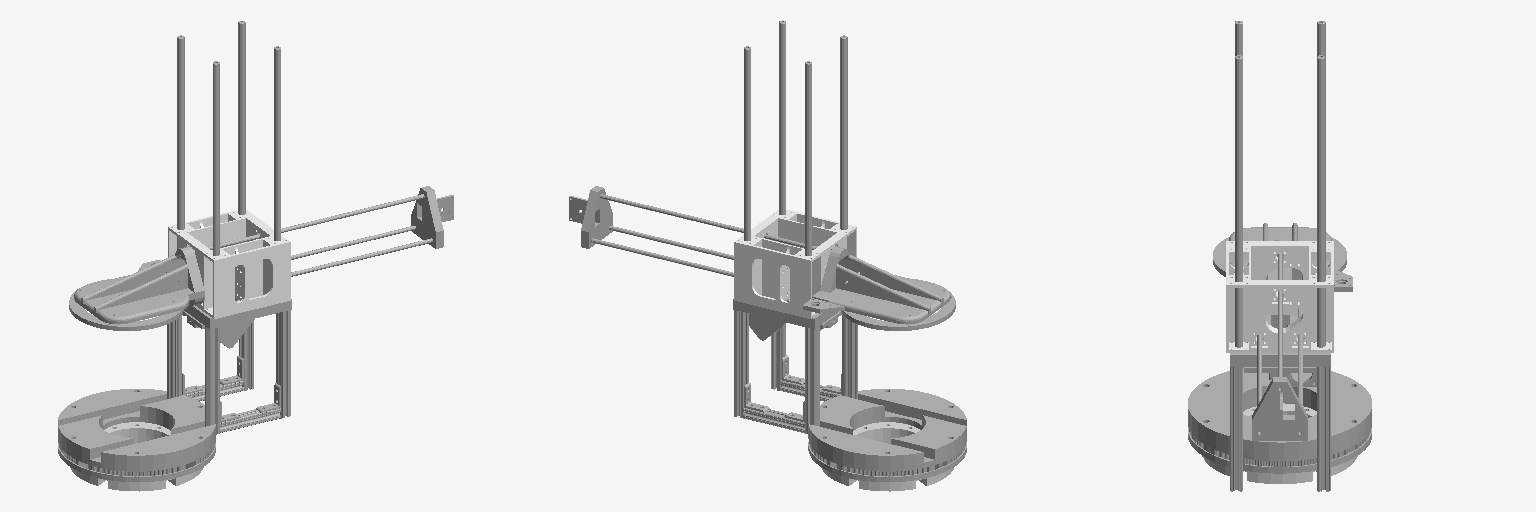
URDF robot description (Robotic Camera Arm Prototype Assem 1.SLDASM):
<?xml version="1.0" encoding="utf-8"?>
<!-- This URDF was automatically created by SolidWorks to URDF Exporter! Originally created by Stephen Brawner (brawner@gmail.com) 
     Commit Version: 1.6.0-4-g7f85cfe  Build Version: 1.6.7995.38578
     For more information, please see http://wiki.ros.org/sw_urdf_exporter -->
<robot
  name="Robotic Camera Arm Prototype Assem 1.SLDASM">
  <link
    name="base_link">
    <inertial>
      <origin
        xyz="-2.27782660584949E-10 3.67005299113982E-09 -0.0210125272705798"
        rpy="0 0 0" />
      <mass
        value="1.81215211898536" />
      <inertia
        ixx="0.01313648481332"
        ixy="7.31803112692465E-12"
        ixz="6.84453383261944E-12"
        iyy="0.0131364864971961"
        iyz="-1.10279680792859E-10"
        izz="0.025692073964106" />
    </inertial>
    <visual>
      <origin
        xyz="0 0 0"
        rpy="0 0 0" />
      <geometry>
        <mesh
          filename="package://Robotic Camera Arm Prototype Assem 1.SLDASM/meshes/base_link.STL" />
      </geometry>
      <material
        name="">
        <color
          rgba="0.894117647058823 0.894117647058823 0.894117647058823 1" />
      </material>
    </visual>
    <collision>
      <origin
        xyz="0 0 0"
        rpy="0 0 0" />
      <geometry>
        <mesh
          filename="package://Robotic Camera Arm Prototype Assem 1.SLDASM/meshes/base_link.STL" />
      </geometry>
    </collision>
  </link>
  <link
    name="Rotating_Base">
    <inertial>
      <origin
        xyz="3.04735280424216E-05 -0.152130732158363 0.0955721763812684"
        rpy="0 0 0" />
      <mass
        value="4.87575599308676" />
      <inertia
        ixx="0.0483683795699628"
        ixy="-4.26006723949936E-07"
        ixz="0.000165780524787756"
        iyy="0.0634809996326897"
        iyz="2.5596619675937E-09"
        izz="0.0483634267744175" />
    </inertial>
    <visual>
      <origin
        xyz="0 0 0"
        rpy="0 0 0" />
      <geometry>
        <mesh
          filename="package://Robotic Camera Arm Prototype Assem 1.SLDASM/meshes/Rotating_Base.STL" />
      </geometry>
      <material
        name="">
        <color
          rgba="0.752941176470588 0.752941176470588 0.752941176470588 1" />
      </material>
    </visual>
    <collision>
      <origin
        xyz="0 0 0"
        rpy="0 0 0" />
      <geometry>
        <mesh
          filename="package://Robotic Camera Arm Prototype Assem 1.SLDASM/meshes/Rotating_Base.STL" />
      </geometry>
    </collision>
  </link>
  <joint
    name="Theta"
    type="revolute">
    <origin
      xyz="0 0 0"
      rpy="-1.5708 0 -1.5708" />
    <parent
      link="base_link" />
    <child
      link="Rotating_Base" />
    <axis
      xyz="0 0 0" />
    <limit
      lower="0"
      upper="0"
      effort="0"
      velocity="0" />
  </joint>
  <link
    name="Carriage">
    <inertial>
      <origin
        xyz="-0.0936300572129703 0.0994271100678407 0.0712083013756296"
        rpy="0 0 0" />
      <mass
        value="1.06103036578235" />
      <inertia
        ixx="0.00642130943103423"
        ixy="-1.41506940035976E-06"
        ixz="3.78672047856759E-06"
        iyy="0.0074326720984421"
        iyz="7.46993042765627E-06"
        izz="0.00950828147719121" />
    </inertial>
    <visual>
      <origin
        xyz="0 0 0"
        rpy="0 0 0" />
      <geometry>
        <mesh
          filename="package://Robotic Camera Arm Prototype Assem 1.SLDASM/meshes/Carriage.STL" />
      </geometry>
      <material
        name="">
        <color
          rgba="1 1 1 1" />
      </material>
    </visual>
    <collision>
      <origin
        xyz="0 0 0"
        rpy="0 0 0" />
      <geometry>
        <mesh
          filename="package://Robotic Camera Arm Prototype Assem 1.SLDASM/meshes/Carriage.STL" />
      </geometry>
    </collision>
  </link>
  <joint
    name="Z"
    type="prismatic">
    <origin
      xyz="0.10025 -0.30653 0.3248"
      rpy="1.5708 -1.5708 0" />
    <parent
      link="Rotating_Base" />
    <child
      link="Carriage" />
    <axis
      xyz="0 0 0" />
    <limit
      lower="0"
      upper="0"
      effort="0"
      velocity="0" />
  </joint>
  <link
    name="Z_Arm">
    <inertial>
      <origin
        xyz="-0.0282002348257729 0.0385175442030404 -0.236030291728383"
        rpy="0 0 0" />
      <mass
        value="1.17419744975491" />
      <inertia
        ixx="0.0122723876023866"
        ixy="0.000182891002582944"
        ixz="0.000125744906764401"
        iyy="0.00970899716983699"
        iyz="-0.000247303091108257"
        izz="0.00349709266689416" />
    </inertial>
    <visual>
      <origin
        xyz="0 0 0"
        rpy="0 0 0" />
      <geometry>
        <mesh
          filename="package://Robotic Camera Arm Prototype Assem 1.SLDASM/meshes/Z_Arm.STL" />
      </geometry>
      <material
        name="">
        <color
          rgba="0.752941176470588 0.752941176470588 0.752941176470588 1" />
      </material>
    </visual>
    <collision>
      <origin
        xyz="0 0 0"
        rpy="0 0 0" />
      <geometry>
        <mesh
          filename="package://Robotic Camera Arm Prototype Assem 1.SLDASM/meshes/Z_Arm.STL" />
      </geometry>
    </collision>
  </link>
  <joint
    name="R"
    type="prismatic">
    <origin
      xyz="0.0943 0.06275 0.027475"
      rpy="-1.5708 1.4816 -1.5708" />
    <parent
      link="Carriage" />
    <child
      link="Z_Arm" />
    <axis
      xyz="0 0 0" />
    <limit
      lower="0"
      upper="0"
      effort="0"
      velocity="0" />
  </joint>
  <link
    name="Yaw_Gimbal">
    <inertial>
      <origin
        xyz="0.0212917906843229 0.0352433665511813 -0.125000001935704"
        rpy="0 0 0" />
      <mass
        value="0.789180551795657" />
      <inertia
        ixx="0.00671828615932125"
        ixy="-7.11915608134756E-06"
        ixz="-3.7290203563534E-10"
        iyy="0.00740691820330574"
        iyz="-8.24987037184403E-09"
        izz="0.00311949104679066" />
    </inertial>
    <visual>
      <origin
        xyz="0 0 0"
        rpy="0 0 0" />
      <geometry>
        <mesh
          filename="package://Robotic Camera Arm Prototype Assem 1.SLDASM/meshes/Yaw_Gimbal.STL" />
      </geometry>
      <material
        name="">
        <color
          rgba="1 1 1 1" />
      </material>
    </visual>
    <collision>
      <origin
        xyz="0 0 0"
        rpy="0 0 0" />
      <geometry>
        <mesh
          filename="package://Robotic Camera Arm Prototype Assem 1.SLDASM/meshes/Yaw_Gimbal.STL" />
      </geometry>
    </collision>
  </link>
  <joint
    name="Yaw"
    type="revolute">
    <origin
      xyz="0.061637 0.064652 -0.56922"
      rpy="-3.1416 0 -1.4816" />
    <parent
      link="Z_Arm" />
    <child
      link="Yaw_Gimbal" />
    <axis
      xyz="0 0 0" />
    <limit
      lower="0"
      upper="0"
      effort="0"
      velocity="0" />
  </joint>
  <link
    name="Pitch_Gimbal">
    <inertial>
      <origin
        xyz="0.00747912322403316 -0.0328560023311688 -0.11068694827136"
        rpy="0 0 0" />
      <mass
        value="0.909933018814524" />
      <inertia
        ixx="0.00175741888742811"
        ixy="2.4886447972587E-05"
        ixz="2.46802882684095E-05"
        iyy="0.00180250428027078"
        iyz="2.13136897634513E-06"
        izz="0.000847674169008528" />
    </inertial>
    <visual>
      <origin
        xyz="0 0 0"
        rpy="0 0 0" />
      <geometry>
        <mesh
          filename="package://Robotic Camera Arm Prototype Assem 1.SLDASM/meshes/Pitch_Gimbal.STL" />
      </geometry>
      <material
        name="">
        <color
          rgba="0.752941176470588 0.752941176470588 0.752941176470588 1" />
      </material>
    </visual>
    <collision>
      <origin
        xyz="0 0 0"
        rpy="0 0 0" />
      <geometry>
        <mesh
          filename="package://Robotic Camera Arm Prototype Assem 1.SLDASM/meshes/Pitch_Gimbal.STL" />
      </geometry>
    </collision>
  </link>
  <joint
    name="Pitch"
    type="revolute">
    <origin
      xyz="0.020656 -0.058 -0.01025"
      rpy="0 0 -0.7854" />
    <parent
      link="Yaw_Gimbal" />
    <child
      link="Pitch_Gimbal" />
    <axis
      xyz="0 0 0" />
    <limit
      lower="0"
      upper="0"
      effort="0"
      velocity="0" />
  </joint>
</robot>

--- What the picture shows (computed from the rendered views, not written in the file) ---
The picture shows the robot from 3 angles, left to right: view 1: azimuth 30°, elevation 25°; view 2: azimuth 150°, elevation 25°; view 3: azimuth 270°, elevation 25°; orthographic projection.
Model Robotic Camera Arm Prototype Assem 1.SLDASM with 6 links and 5 joints (3 revolute, 2 prismatic), rooted at base_link, posed every joint at zero.
Links seen in each view (by area): view 1: Rotating_Base, Z_Arm, Carriage, base_link; view 2: Rotating_Base, Z_Arm, Carriage, base_link; view 3: Rotating_Base, Carriage, Z_Arm, base_link.
Link boxes in pixels (x1,y1,x2,y2): Rotating_Base: (58, 21, 291, 481); Z_Arm: (69, 186, 453, 330); Carriage: (168, 210, 290, 318); base_link: (70, 422, 203, 491); Rotating_Base: (733, 20, 966, 481); Z_Arm: (569, 186, 955, 330); Carriage: (734, 209, 856, 318); base_link: (821, 422, 953, 491); Rotating_Base: (1188, 21, 1371, 491); Carriage: (1226, 241, 1333, 352); Z_Arm: (1213, 223, 1352, 440); base_link: (1202, 403, 1357, 483).
Bounding box of the posed robot: 0.9622 × 0.3425 × 0.9479 m (x, y, z).
4 mesh visuals loaded from 6 distinct referenced files (4 binary STL); not drawn: 2 (reference not matched to a file when rendering).
